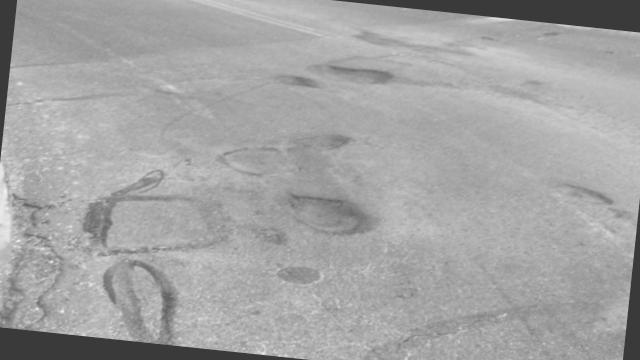Pothole: (270, 184, 382, 252), (535, 182, 640, 222), (286, 114, 361, 160), (312, 59, 398, 91), (264, 66, 330, 96)
